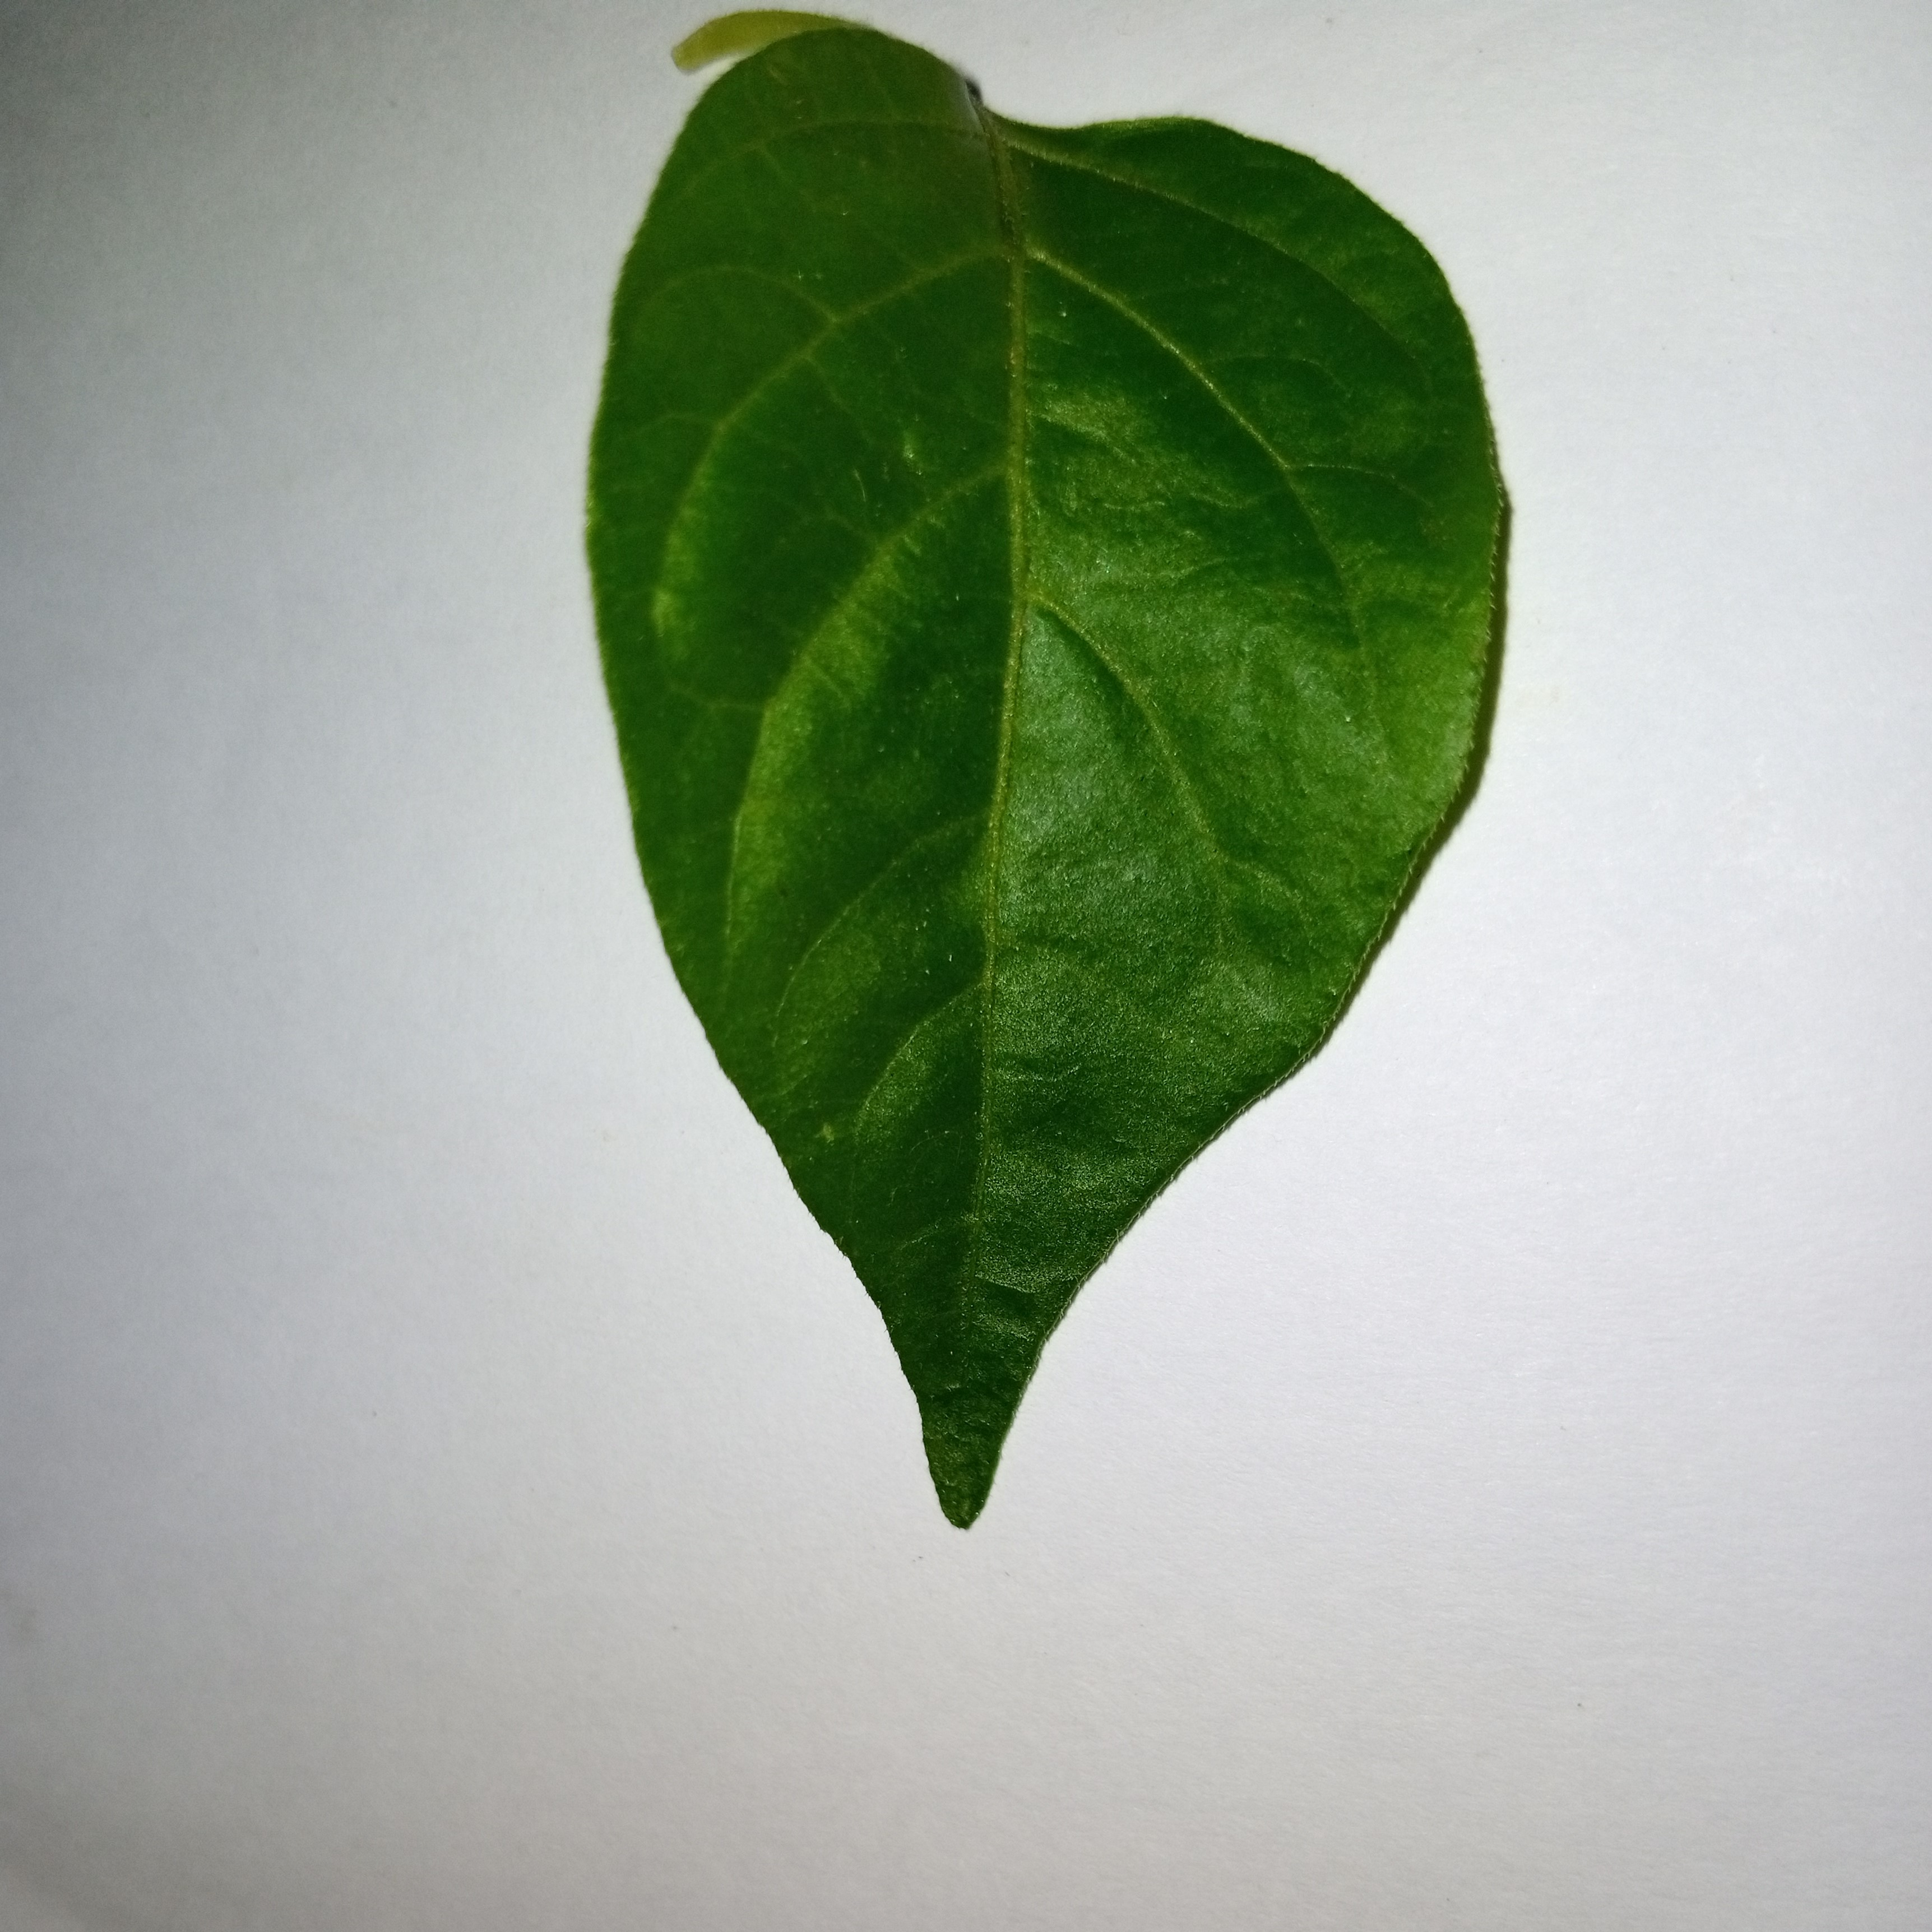Leaf: (479, 16, 1568, 1665)
